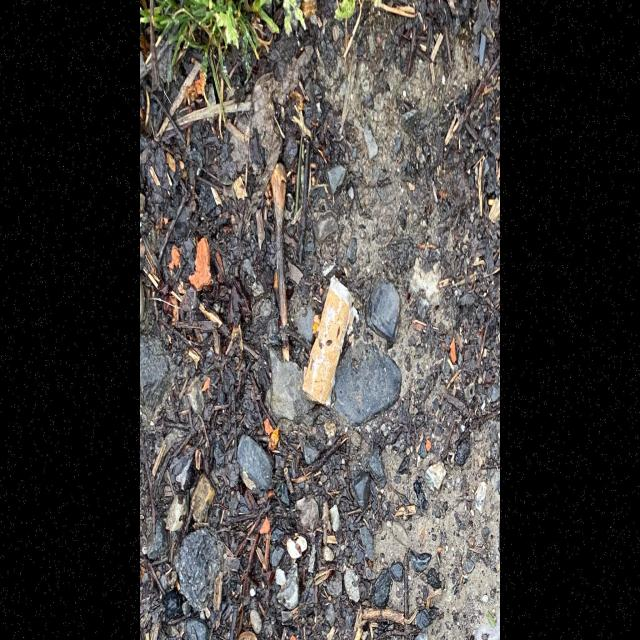other waste: (302, 274, 359, 408)
